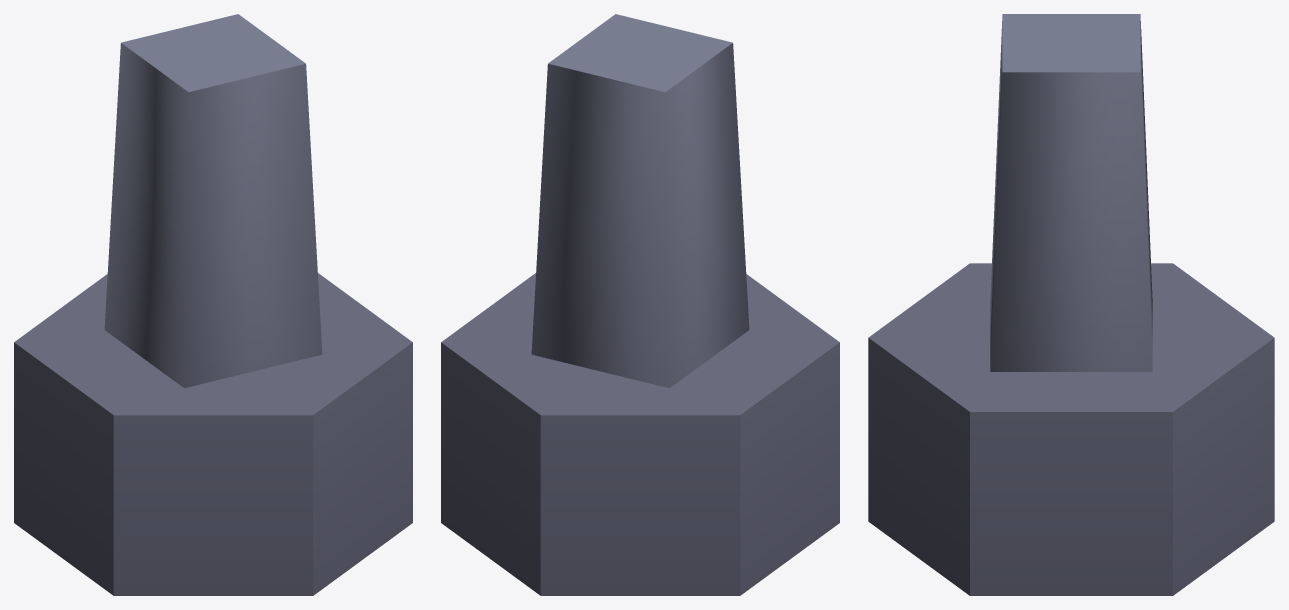
The model's file is debris-bolt.glb.
3 views of the same model, side by side, from view 1: azimuth 30°, elevation 25°; view 2: azimuth 150°, elevation 25°; view 3: azimuth 270°, elevation 25° (orthographic).
Parts seen in each view (by area): view 1: debris-bolt; view 2: debris-bolt; view 3: debris-bolt.
Part boxes in pixels (x1,y1,x2,y2): debris-bolt: (14, 14, 412, 595); debris-bolt: (441, 14, 839, 595); debris-bolt: (868, 14, 1274, 595).
Bounding box in the file's own units: 0.1732 × 0.26 × 0.2.
1 material, 1 textured.
